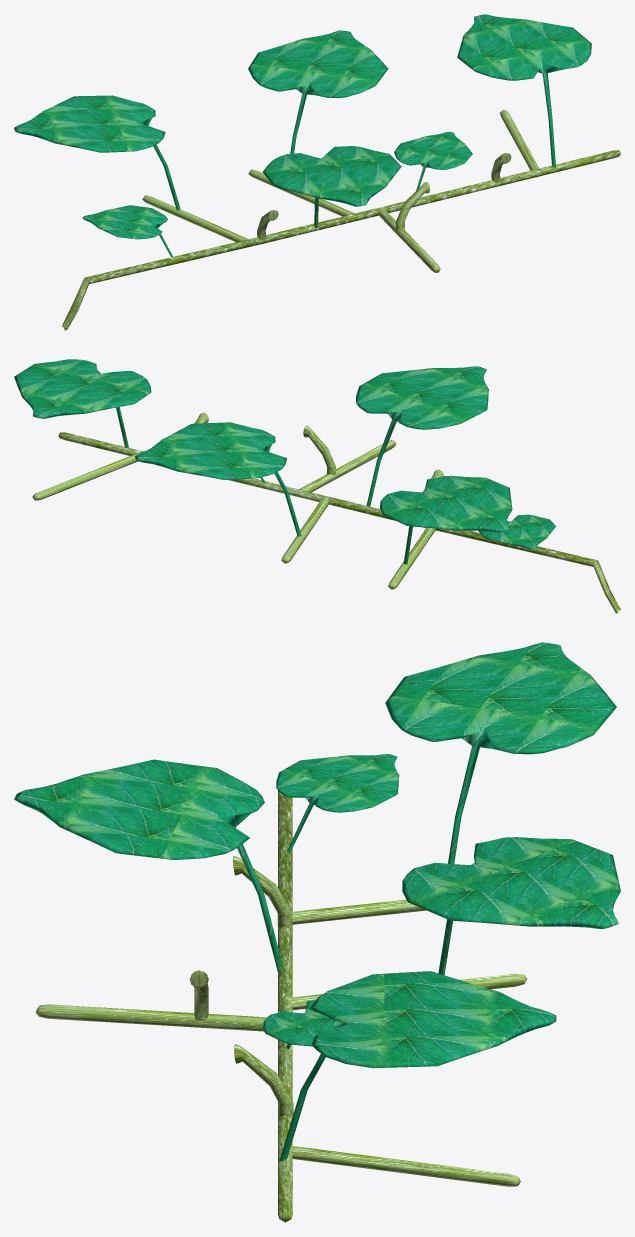
Rendered from pumpkinstem.fbx.
3 views of the same model, one above another, from view 1: azimuth 30°, elevation 25°; view 2: azimuth 150°, elevation 25°; view 3: azimuth 270°, elevation 25° (orthographic). The views are drawn at different scales.
Visible parts, largest first — view 1: pumpkinleaves, pumpkinleaves2, pumpkinleaves4, pumpkinleaves5, pumpkinstem, pumpkinleaves1, pumpkinleaves3, pumpkinstem8, pumpkinstem4, pumpkinstem5, pumpkinstem2, pumpkinstem9; view 2: pumpkinleaves5, pumpkinleaves2, pumpkinleaves4, pumpkinleaves, pumpkinstem, pumpkinleaves3, pumpkinstem2, pumpkinstem4, pumpkinstem5, pumpkinstem8, pumpkinstem9; view 3: pumpkinleaves4, pumpkinleaves5, pumpkinleaves, pumpkinleaves2, pumpkinleaves3, pumpkinstem, pumpkinstem4, pumpkinstem2, pumpkinleaves1, pumpkinstem8, pumpkinstem10, pumpkinstem1 (+1 smaller).
Boxes of the visible parts, x1,y1,x2,y2 form: pumpkinleaves: [457, 14, 591, 167]; pumpkinleaves2: [248, 30, 388, 153]; pumpkinleaves4: [14, 95, 180, 210]; pumpkinleaves5: [262, 146, 401, 228]; pumpkinstem: [62, 150, 620, 330]; pumpkinleaves1: [394, 131, 472, 190]; pumpkinleaves3: [82, 205, 172, 257]; pumpkinstem8: [142, 195, 248, 241]; pumpkinstem4: [378, 208, 440, 272]; pumpkinstem5: [248, 169, 354, 216]; pumpkinstem2: [500, 109, 539, 177]; pumpkinstem9: [396, 182, 429, 229]; pumpkinleaves5: [356, 366, 488, 506]; pumpkinleaves2: [135, 422, 301, 536]; pumpkinleaves4: [380, 475, 512, 564]; pumpkinleaves: [14, 359, 151, 447]; pumpkinstem: [58, 432, 620, 613]; pumpkinleaves3: [479, 514, 555, 548]; pumpkinstem2: [32, 451, 144, 500]; pumpkinstem4: [299, 440, 395, 492]; pumpkinstem5: [281, 496, 328, 563]; pumpkinstem8: [388, 527, 435, 589]; pumpkinstem9: [303, 425, 335, 475]; pumpkinleaves4: [385, 642, 616, 863]; pumpkinleaves5: [14, 759, 282, 971]; pumpkinleaves: [279, 971, 556, 1161]; pumpkinleaves2: [402, 837, 620, 975]; pumpkinleaves3: [276, 754, 399, 852]; pumpkinstem: [278, 791, 292, 1222]; pumpkinstem4: [36, 1004, 266, 1031]; pumpkinstem2: [282, 1144, 520, 1186]; pumpkinleaves1: [263, 1000, 334, 1049]; pumpkinstem8: [292, 899, 426, 924]; pumpkinstem10: [234, 1044, 293, 1117]; pumpkinstem1: [233, 856, 292, 927].
Size of the model in its own units: 14.88 by 3.48 by 8.48.
